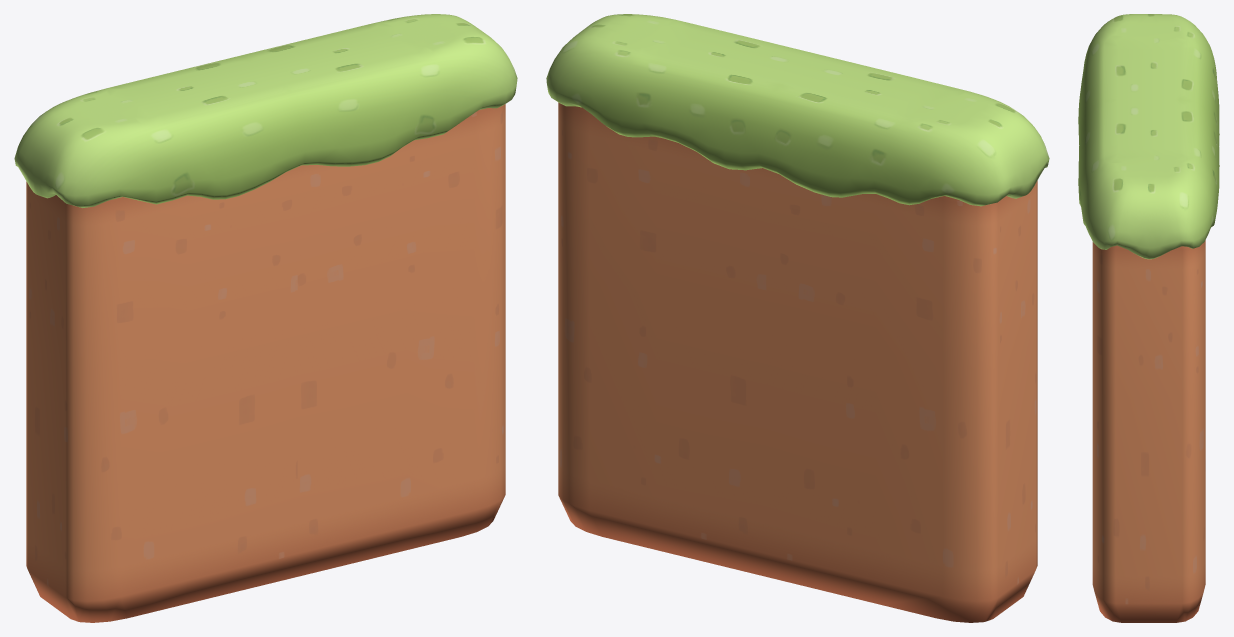
File: basicPlatform_2x2.fbx
3 views of the same model, side by side, from view 1: azimuth 30°, elevation 25°; view 2: azimuth 150°, elevation 25°; view 3: azimuth 270°, elevation 25° (orthographic). The views are drawn at different scales.
Visible parts, largest first — view 1: basicPlatform_2x2; view 2: basicPlatform_2x2; view 3: basicPlatform_2x2.
Boxes of the visible parts, x1,y1,x2,y2 form: basicPlatform_2x2: (14, 14, 517, 622); basicPlatform_2x2: (546, 14, 1049, 622); basicPlatform_2x2: (1078, 14, 1219, 622).
Size of the model in its own units: 424 by 423 by 125.
